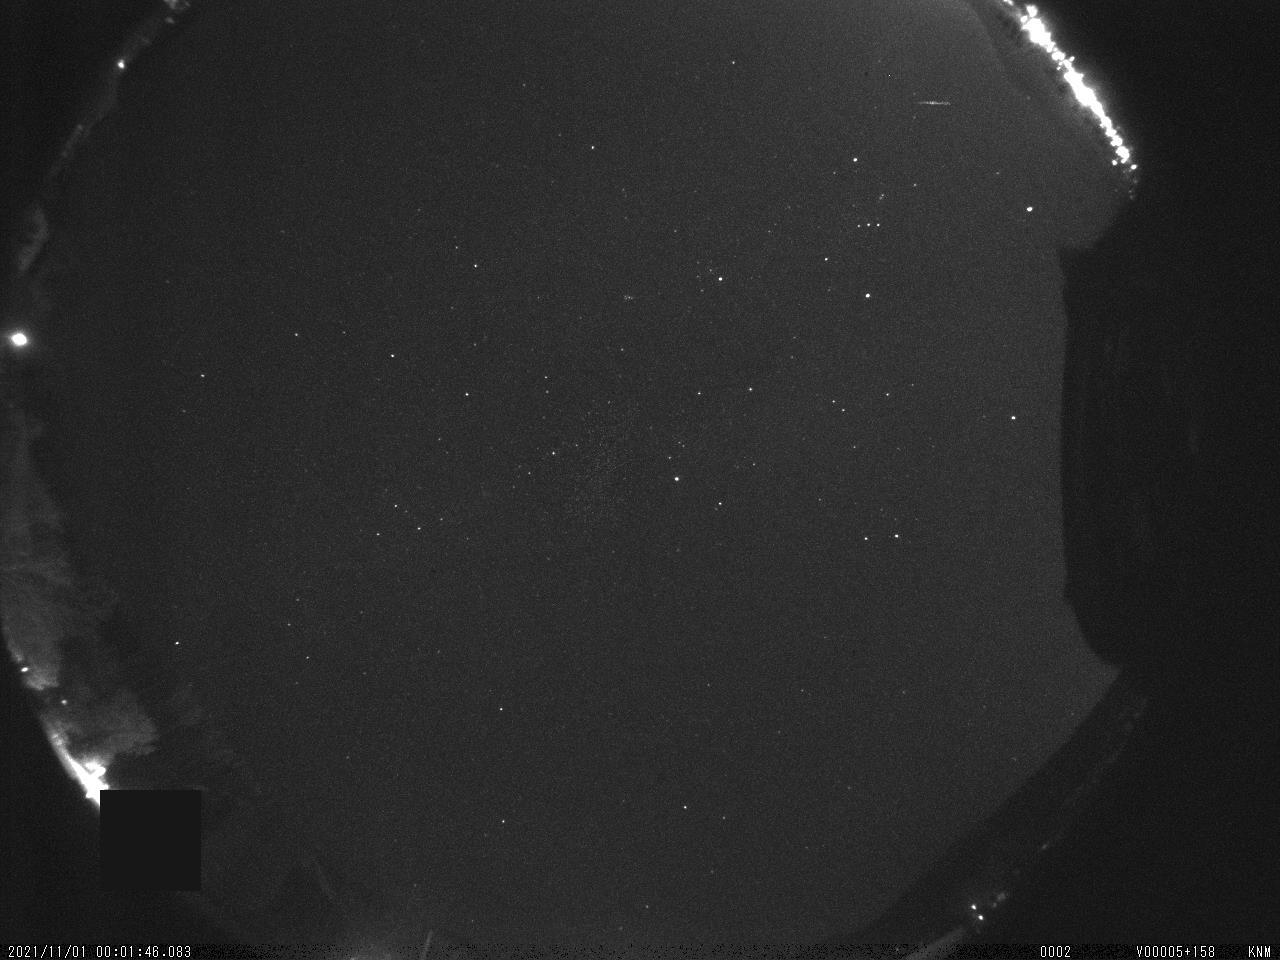meteor: (909, 96, 965, 113)
